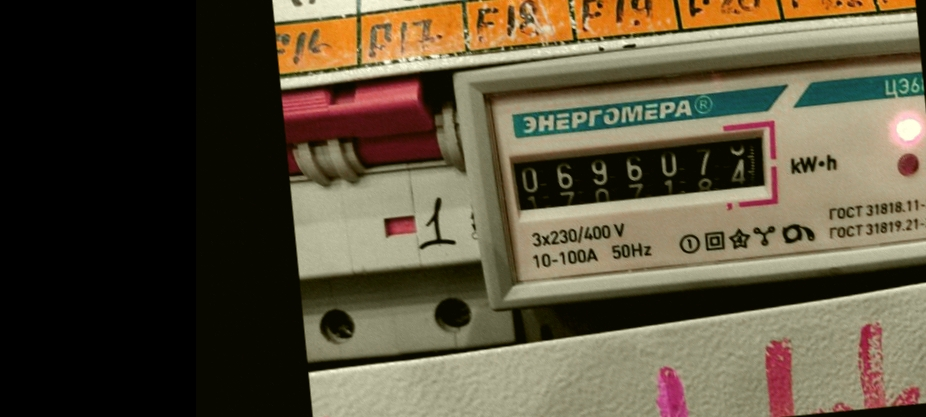0: (518, 162, 541, 194), (658, 146, 680, 178)
4: (727, 155, 748, 185)
6: (552, 158, 577, 190), (624, 151, 645, 181)
7: (693, 144, 713, 175)
9: (589, 156, 610, 186)
screen: (492, 112, 784, 229)
